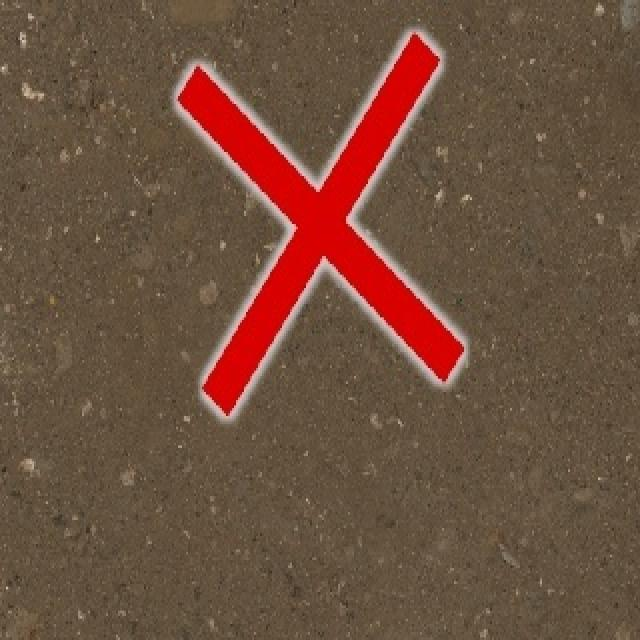x_marker: (177, 33, 463, 415)
